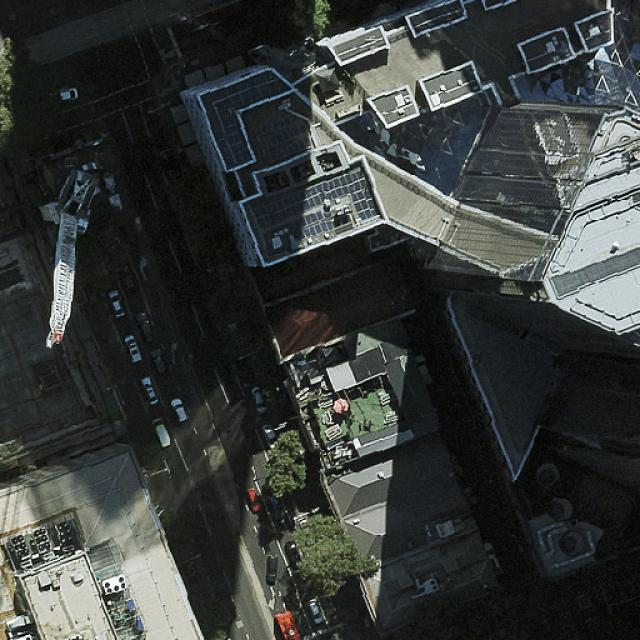Bike-Symbols: (163, 49, 177, 59)
